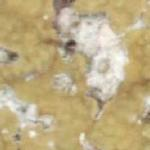alive: (3, 4, 147, 147)
